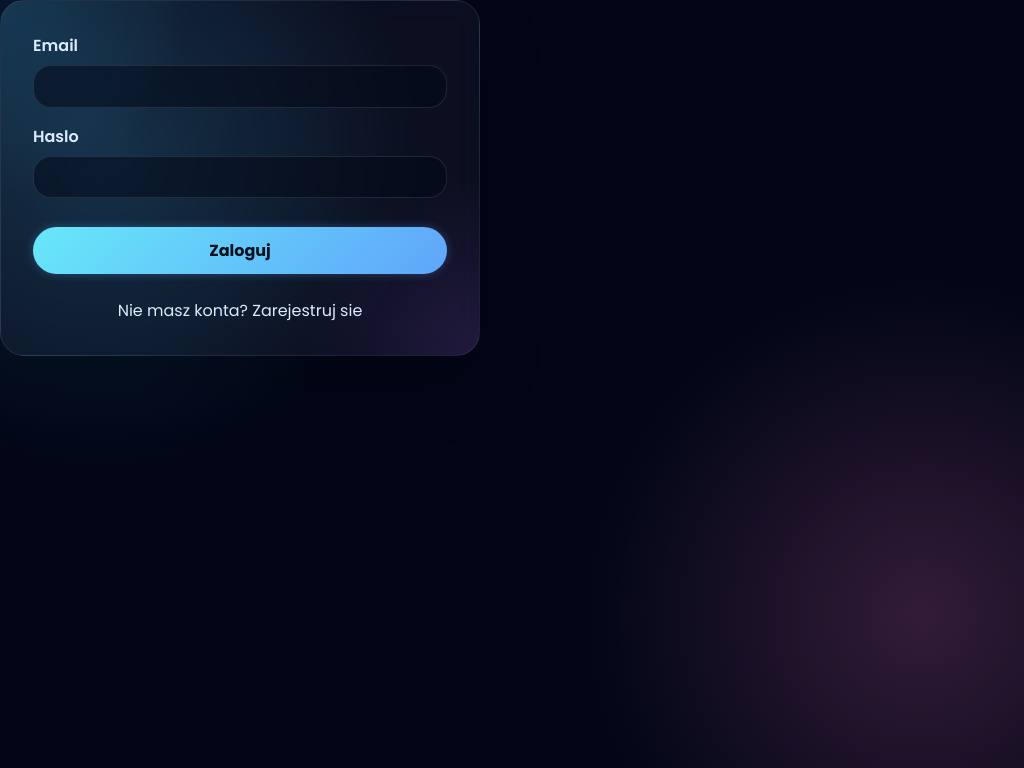
LoginForm › shows error message on failed login
This screenshot has width=1024, height=768.
Step 1. Type "jan@example.com" into the field labelled "Email" → [240, 86], box [33,65,447,108]
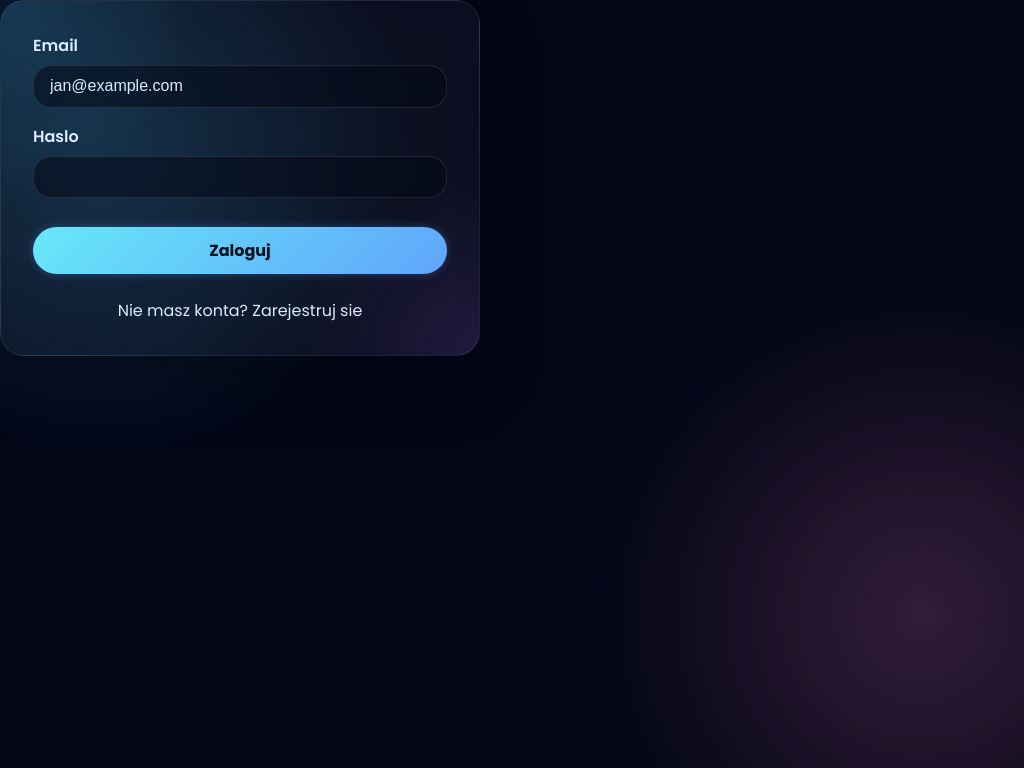
Step 2. Type "wrongpassword" into the password field labelled "Haslo" → [240, 177], box [33,156,447,198]
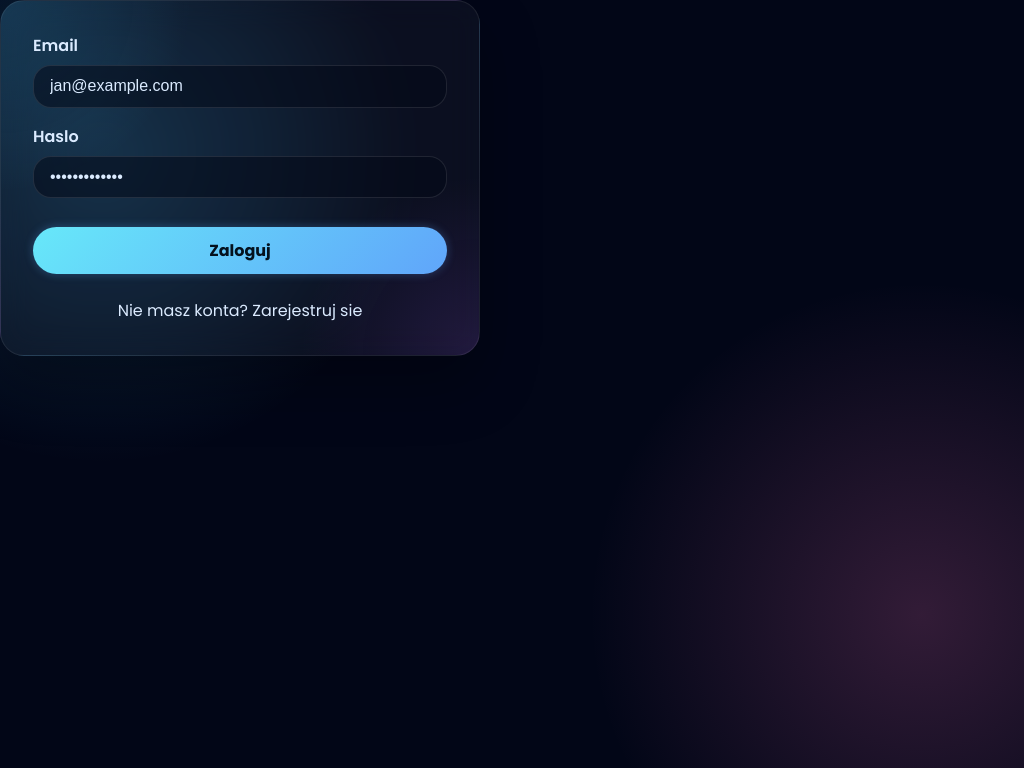
Step 3. Click the button "Zaloguj" → [240, 251], box [33,227,447,274]
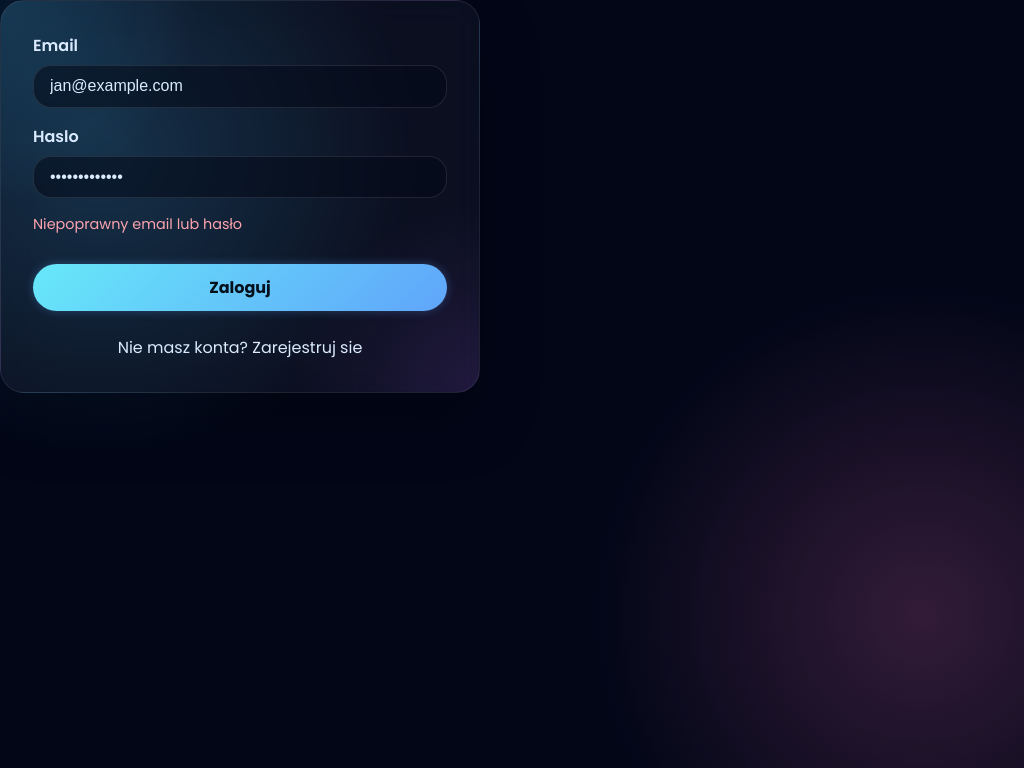
Result: the text "Niepoprawny email lub hasło" is shown at [33,214,242,234]
